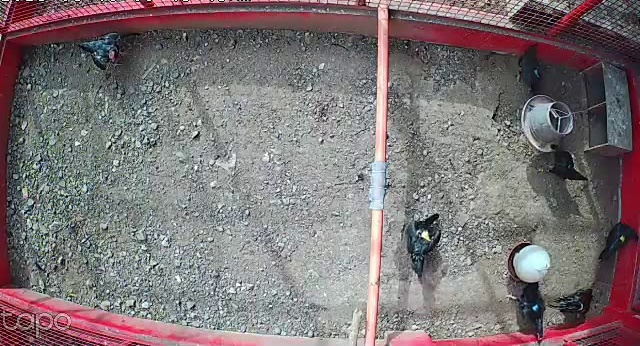Chicken: (399, 206, 450, 281), (70, 28, 142, 75), (502, 276, 547, 346), (536, 141, 590, 185), (513, 39, 548, 102), (596, 217, 640, 262)
Rooster: (546, 279, 599, 318)
Saddle_Color_Blue: (532, 305, 538, 310)
Saddle_Color_Yellow: (416, 227, 432, 239)
